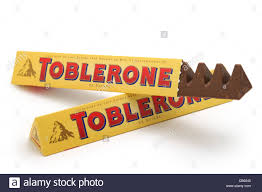Chocolate: (9, 42, 262, 162)
